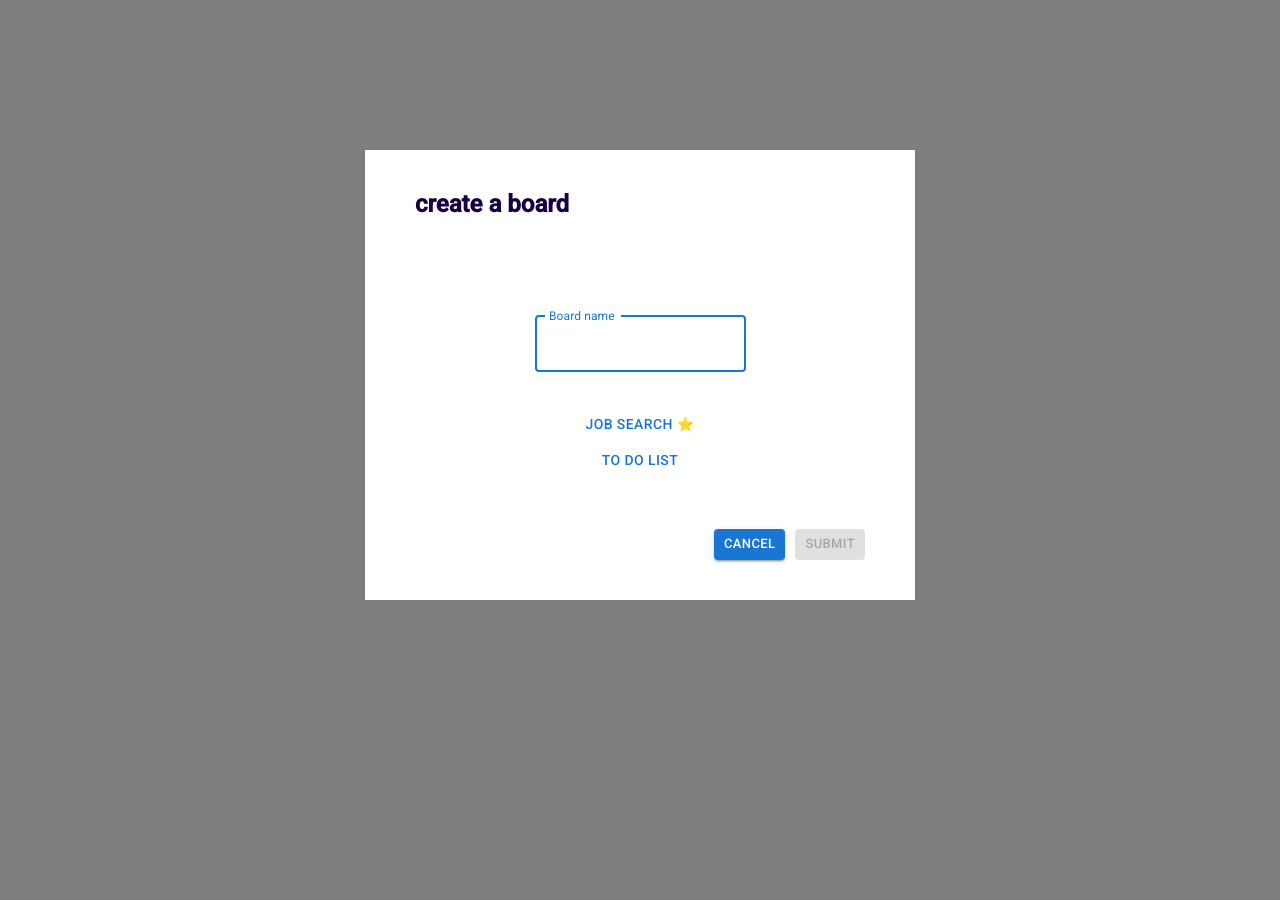
Test case: CreateBoardModal › fills the title from a suggestion button
Click the button "Job Search ⭐️": (640, 424) [578, 406, 703, 442]
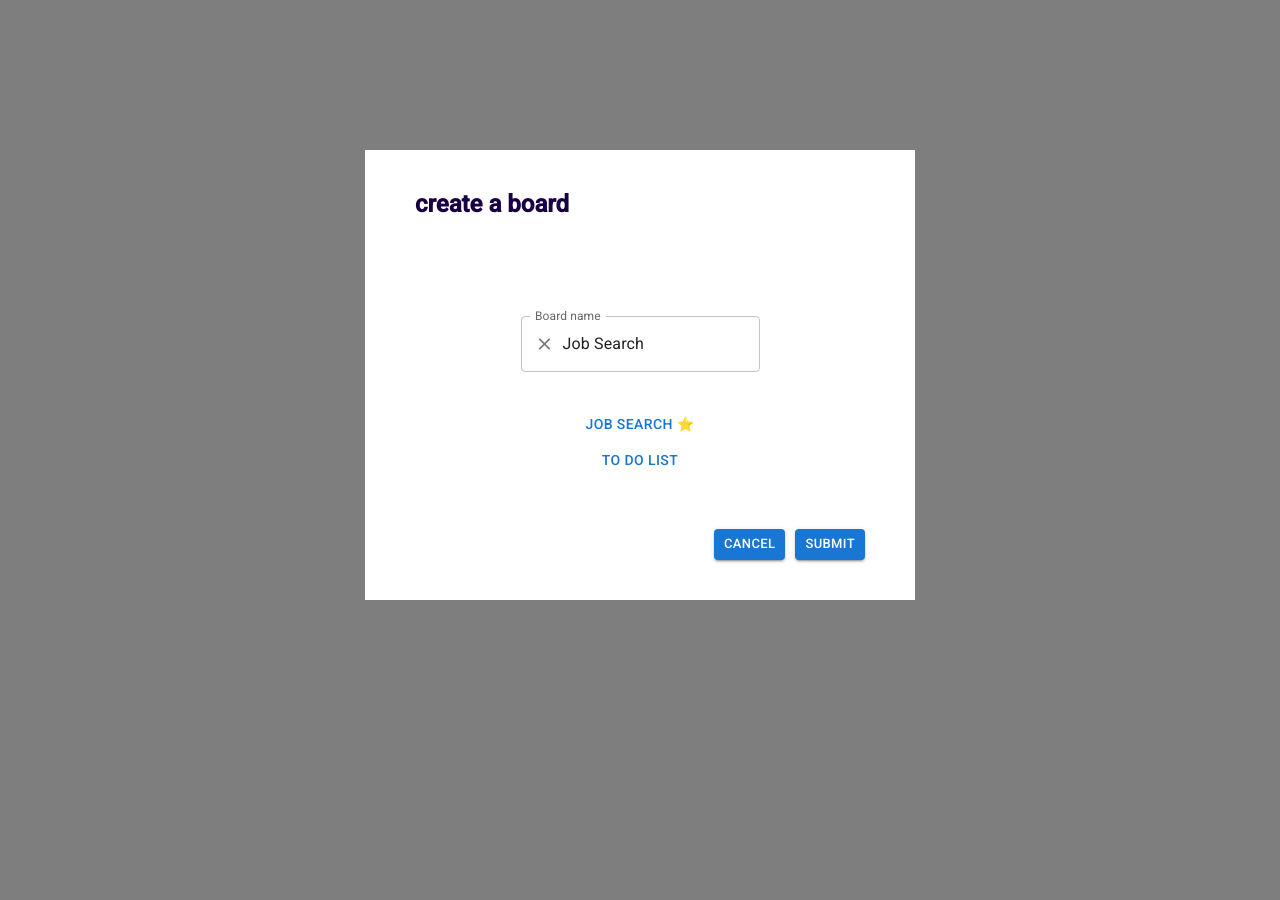
Expected: the field showing "Job Search" is shown, [562, 316, 760, 372]
Expected: the button "Submit" is enabled, [795, 529, 865, 560]
